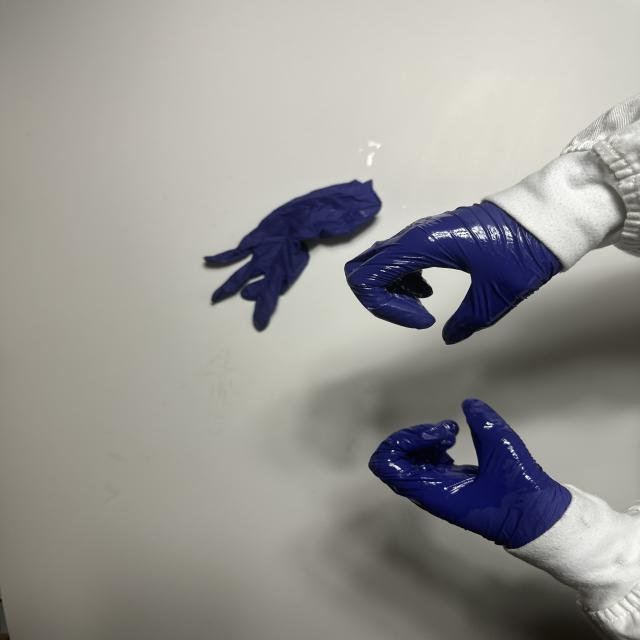gloves_contaminated: (345, 202, 562, 344), (369, 399, 571, 548)
